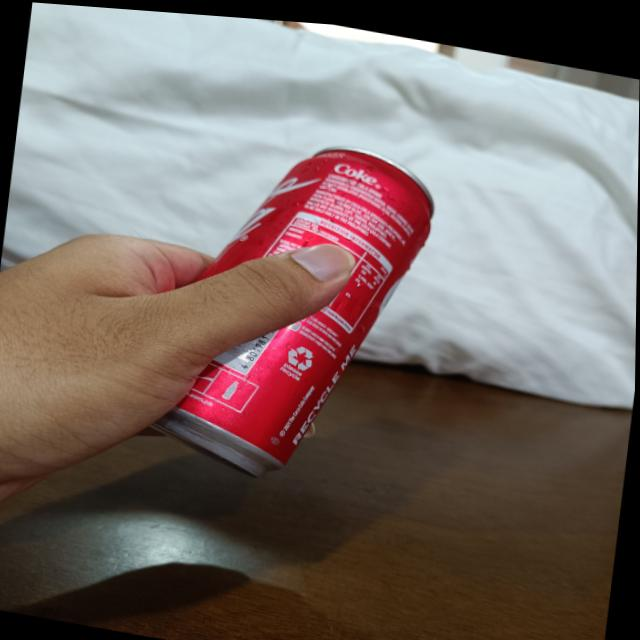coke: (146, 108, 443, 494)
